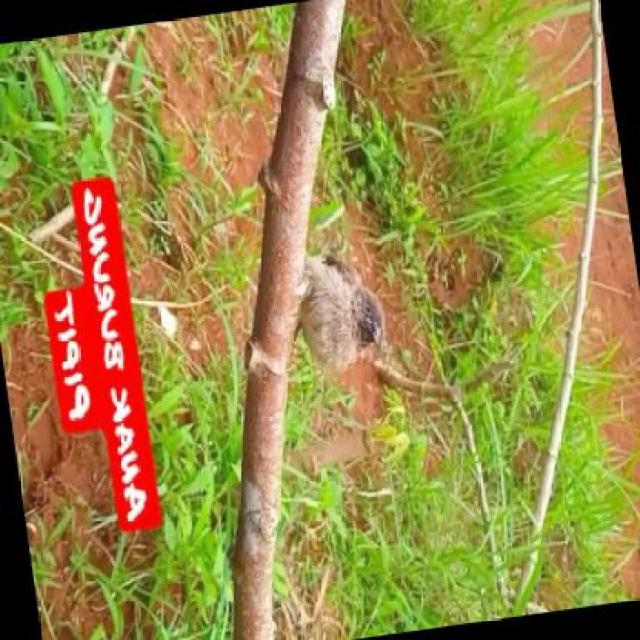Bird: (299, 235, 397, 378)
